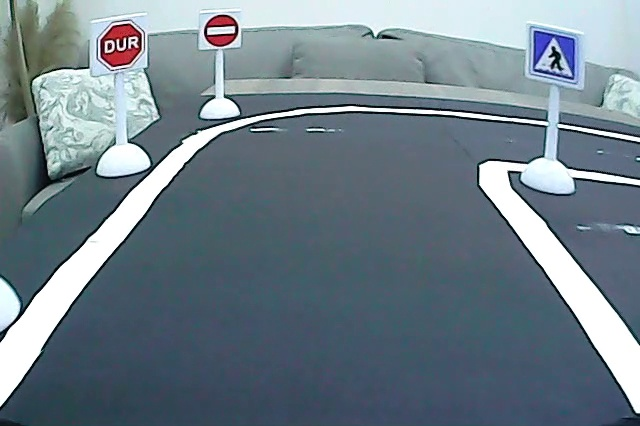do not enter: (203, 11, 241, 48)
pedestrian crossing: (528, 24, 581, 86)
stop sign: (96, 20, 147, 71)
